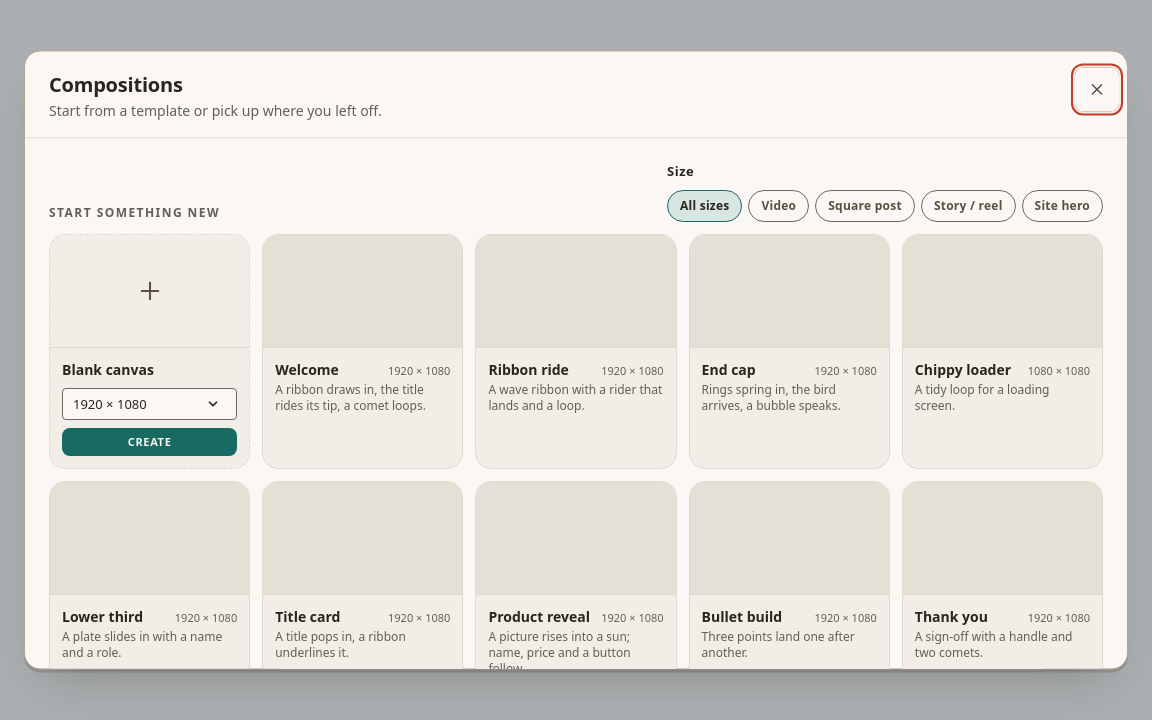
Test case: GalleryDialog templates › filters to the Site hero frame and points the blank canvas at it
Click the radio button labelled "Site hero". click: click(1062, 206)
box: left=1022, top=190, right=1103, bottom=222
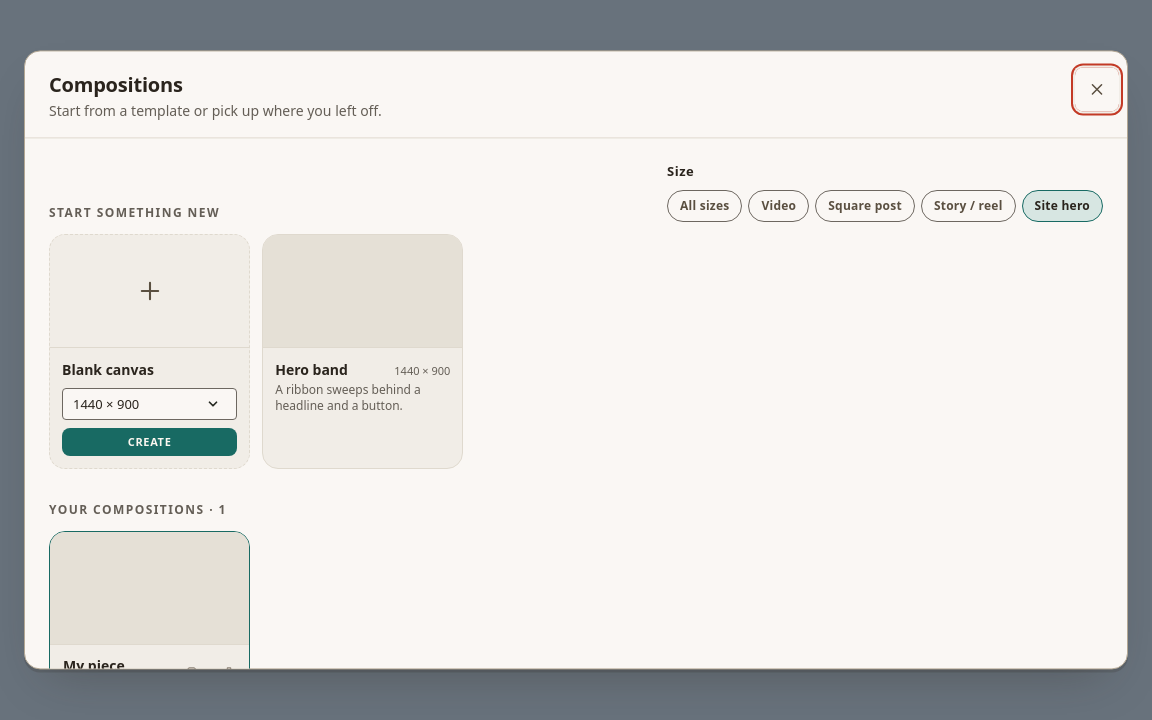
Expected: the dropdown named "Frame size" shows "1440 × 900", left=62, top=388, right=237, bottom=420
